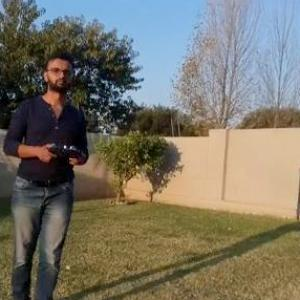follow: (0, 45, 90, 299)
